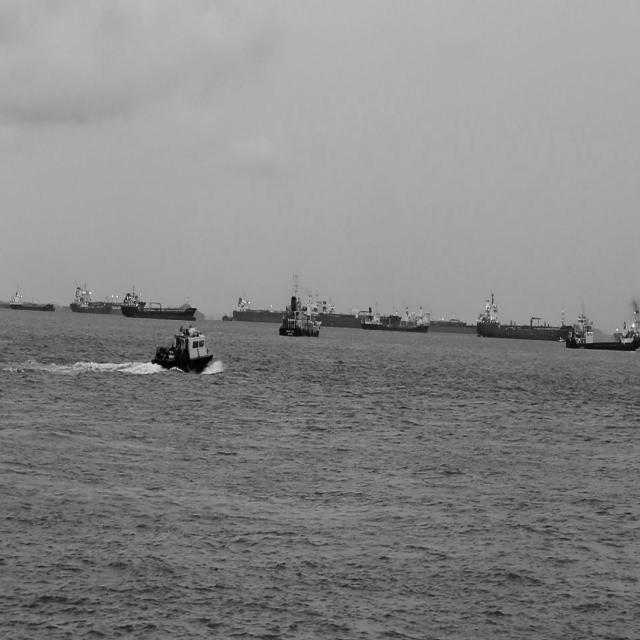ship: (472, 287, 574, 339), (562, 305, 638, 352), (146, 322, 213, 374), (299, 287, 379, 329), (119, 286, 198, 323), (407, 298, 480, 335), (360, 298, 430, 336), (228, 288, 297, 320), (276, 296, 322, 340), (610, 288, 640, 340), (70, 284, 112, 316), (6, 288, 56, 312), (85, 292, 131, 314), (212, 308, 225, 324)
